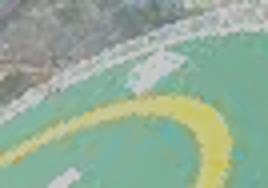Apron: (1, 80, 244, 188)
